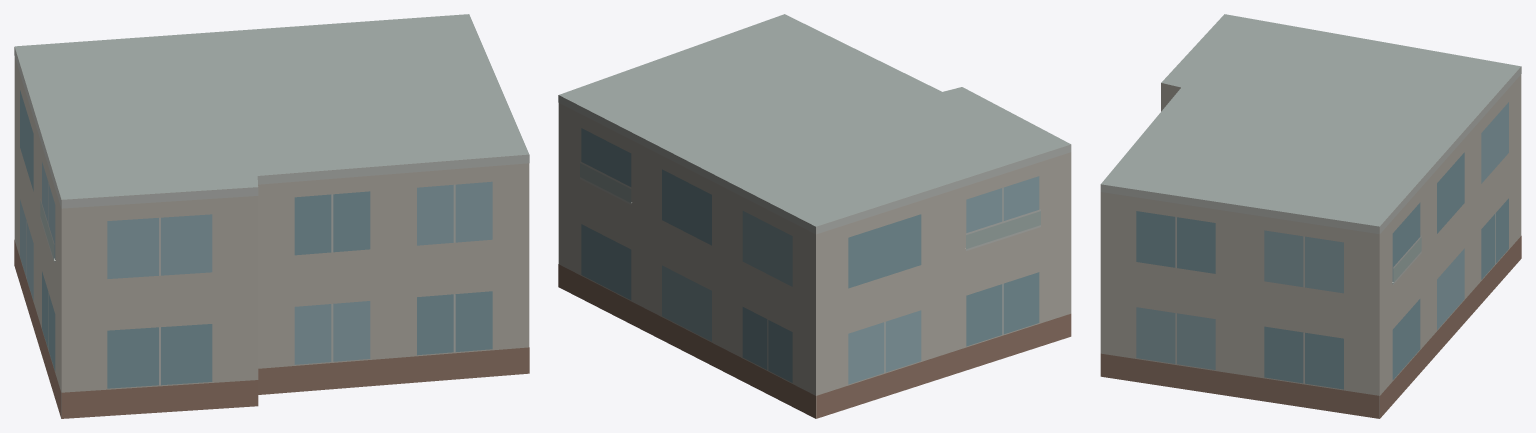
The model's file is survey-upis-32765873.glb.
The picture shows the model from 3 angles, left to right: view 1: azimuth 30°, elevation 25°; view 2: azimuth 150°, elevation 25°; view 3: azimuth 270°, elevation 25°; orthographic projection. The views are drawn at different scales.
Visible parts, largest first — view 1: survey-upis-32765873.tmp; view 2: survey-upis-32765873.tmp; view 3: survey-upis-32765873.tmp.
Boxes of the visible parts, x1,y1,x2,y2 form: survey-upis-32765873.tmp: [14, 14, 529, 418]; survey-upis-32765873.tmp: [558, 14, 1071, 418]; survey-upis-32765873.tmp: [1100, 14, 1521, 418].
Bounding box in the file's own units: 14.47 × 6.1 × 12.11.
